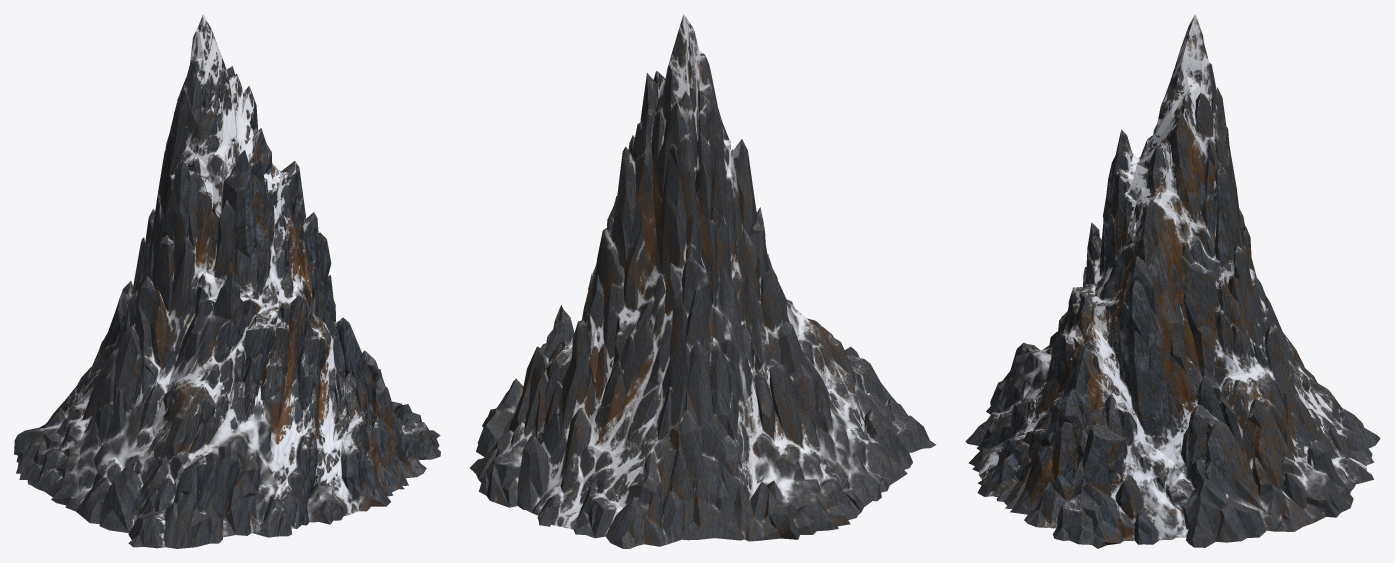
The model's file is peak_tall_raw.glb.
The picture shows the model from 3 angles, left to right: view 1: azimuth 30°, elevation 25°; view 2: azimuth 150°, elevation 25°; view 3: azimuth 270°, elevation 25°; orthographic projection. The views are drawn at different scales.
Parts seen in each view (by area): view 1: output_unwrapped; view 2: output_unwrapped; view 3: output_unwrapped.
Boxes of the visible parts, <box> form: output_unwrapped: <box>14,14,440,548</box>; output_unwrapped: <box>470,14,936,548</box>; output_unwrapped: <box>965,14,1380,548</box>.
Size of the model in its own units: 1.66 by 1.9 by 1.62.
1 material, 1 textured.
